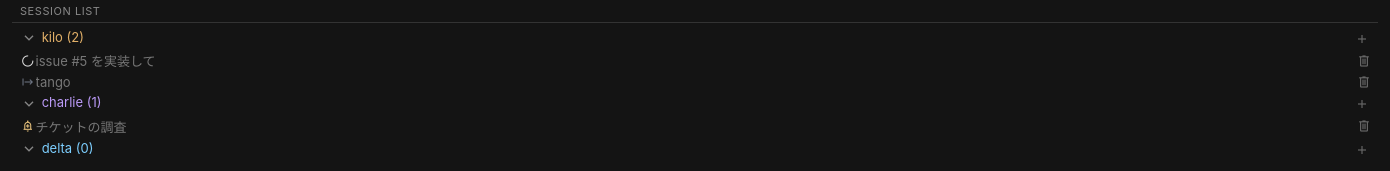
Test: CockpitTerminalListView: right-click menu › shows 'Delete' but not 'New session' in the row right-click menu
Right-click the button "tango": [53, 82] box [12,72,1350,92]
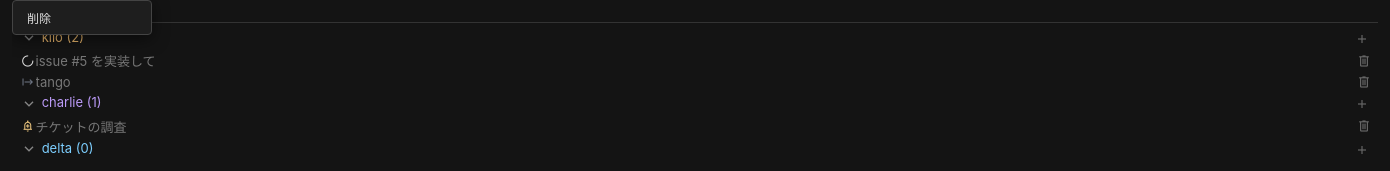
Result: the menu item "削除" is shown at [17,5,147,30]
